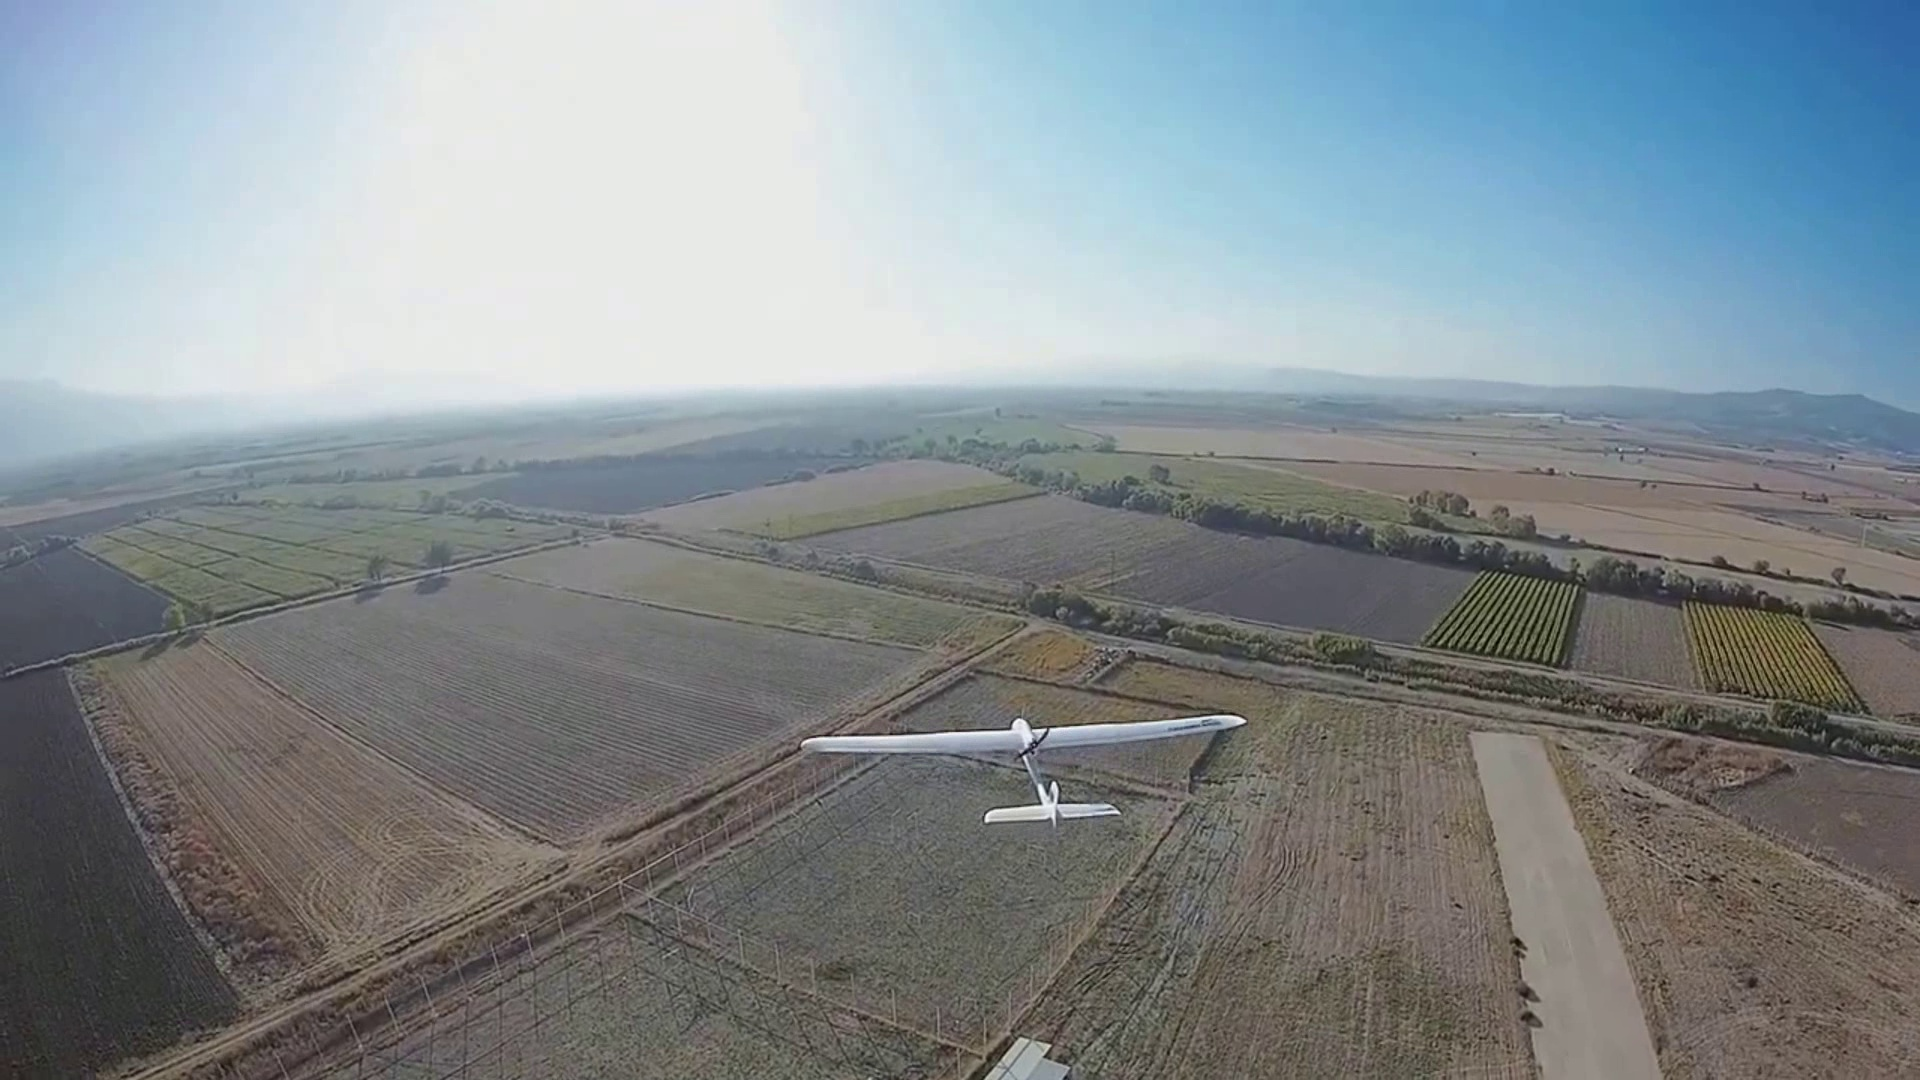airplane: (801, 712, 1244, 829)
